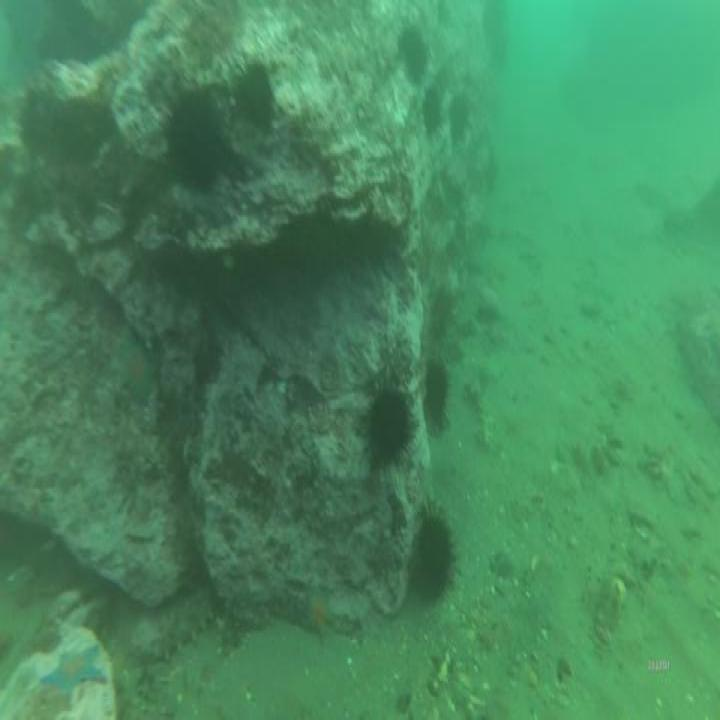echinus: (161, 78, 229, 201), (359, 370, 415, 480), (410, 492, 459, 601), (224, 48, 276, 137), (424, 359, 454, 430), (400, 19, 426, 84), (449, 87, 470, 144), (421, 80, 443, 130)
holothurian: (143, 592, 215, 660)
starfish: (42, 640, 108, 706), (299, 587, 337, 645)
